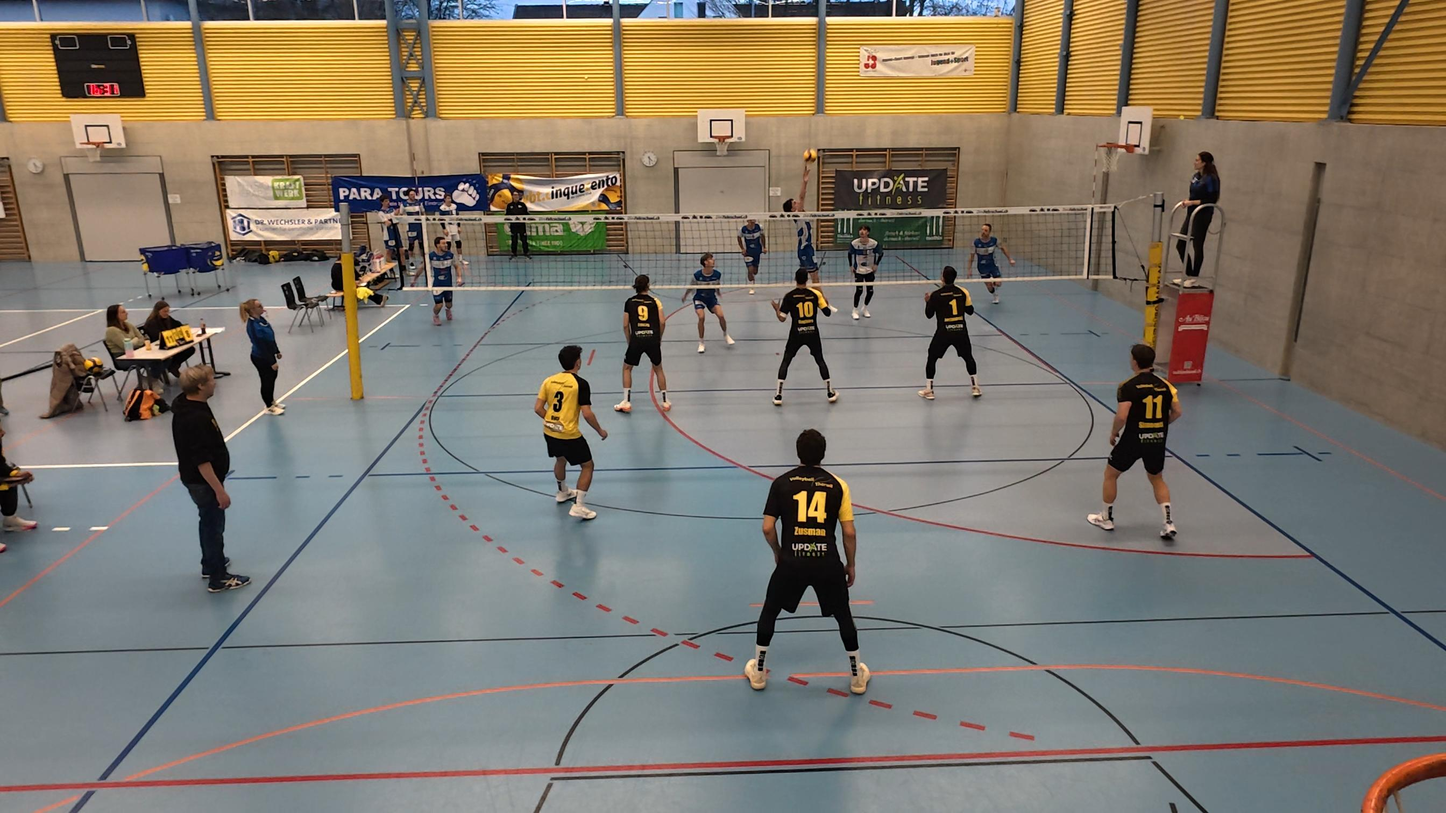Player: (745, 428, 869, 693), (1088, 343, 1181, 538), (534, 344, 603, 522), (770, 269, 840, 406), (918, 266, 983, 401), (615, 274, 675, 414), (410, 231, 466, 329), (685, 250, 734, 354), (848, 226, 881, 319), (970, 222, 1004, 309), (737, 210, 767, 296)
Set: (772, 147, 843, 316)
ball: (803, 148, 819, 161)
